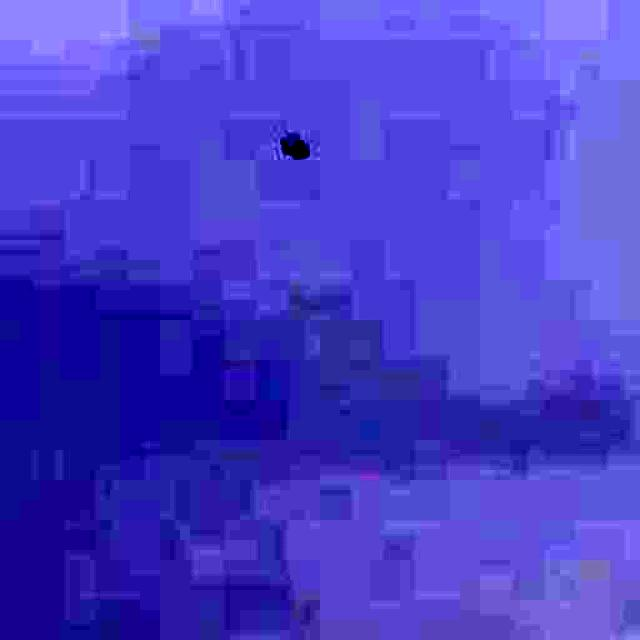drone: (268, 120, 319, 172)
